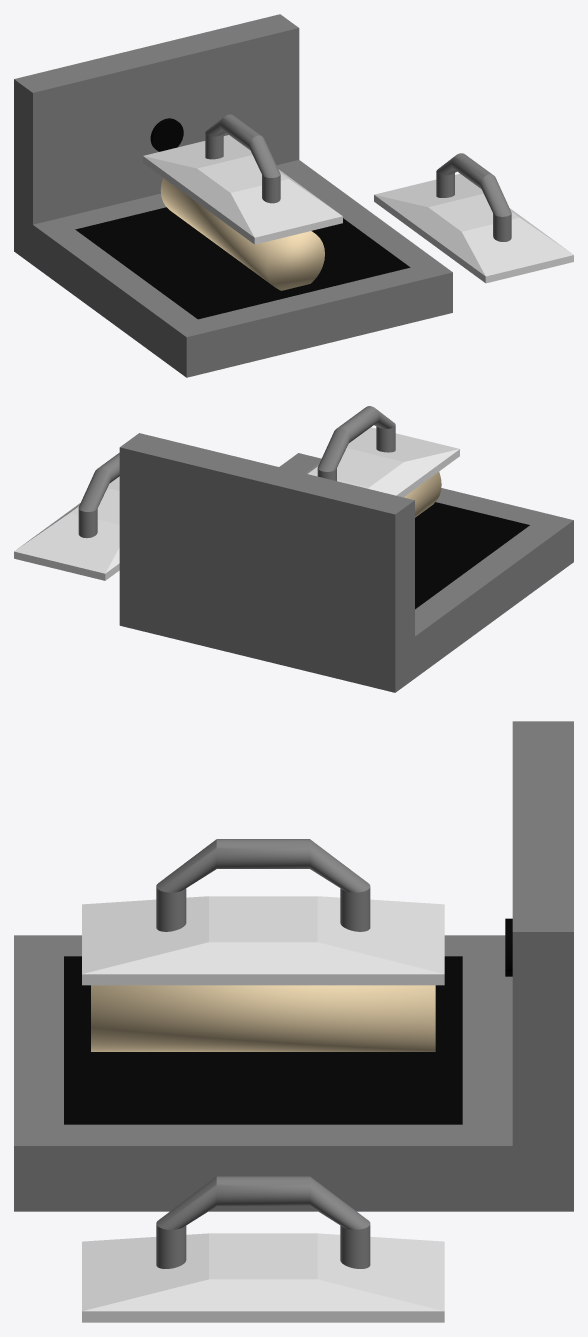
The model's file is Grill.fbx.
3 renders of one model, top to bottom at view 1: azimuth 30°, elevation 25°; view 2: azimuth 150°, elevation 25°; view 3: azimuth 270°, elevation 25°, orthographic. The views are drawn at different scales.
Parts seen in each view (by area): view 1: Cube, GrillOff, GrillOn, Wrap, Cylinder; view 2: Cube, GrillOn, GrillOff, Wrap; view 3: Cube, GrillOff, GrillOn, Wrap.
Part boxes in pixels (x1,y1,x2,y2): Cube: (14,14,452,377); GrillOff: (374,153,573,283); GrillOn: (143,114,342,244); Wrap: (160,178,324,290); Cylinder: (150,118,183,151); Cube: (119,433,573,692); GrillOn: (305,406,459,497); GrillOff: (14,453,119,580); Wrap: (404,472,441,517); Cube: (14,721,573,1211); GrillOff: (82,1176,444,1322); GrillOn: (82,839,444,985); Wrap: (91,985,435,1051).
Size of the model in its own units: 422 by 170 by 309.
